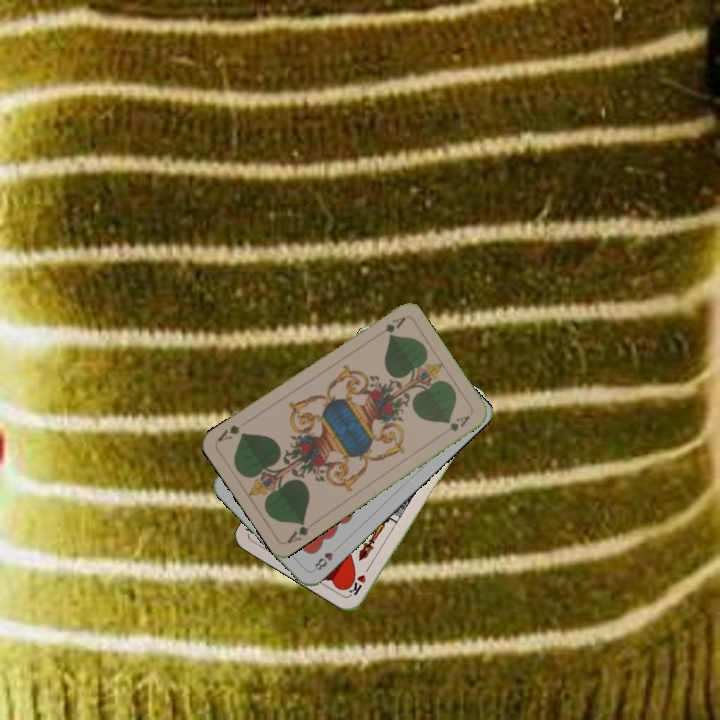GA: (283, 517, 311, 546), (381, 313, 408, 335)
H8: (310, 542, 342, 573)
HK: (344, 560, 373, 598)
